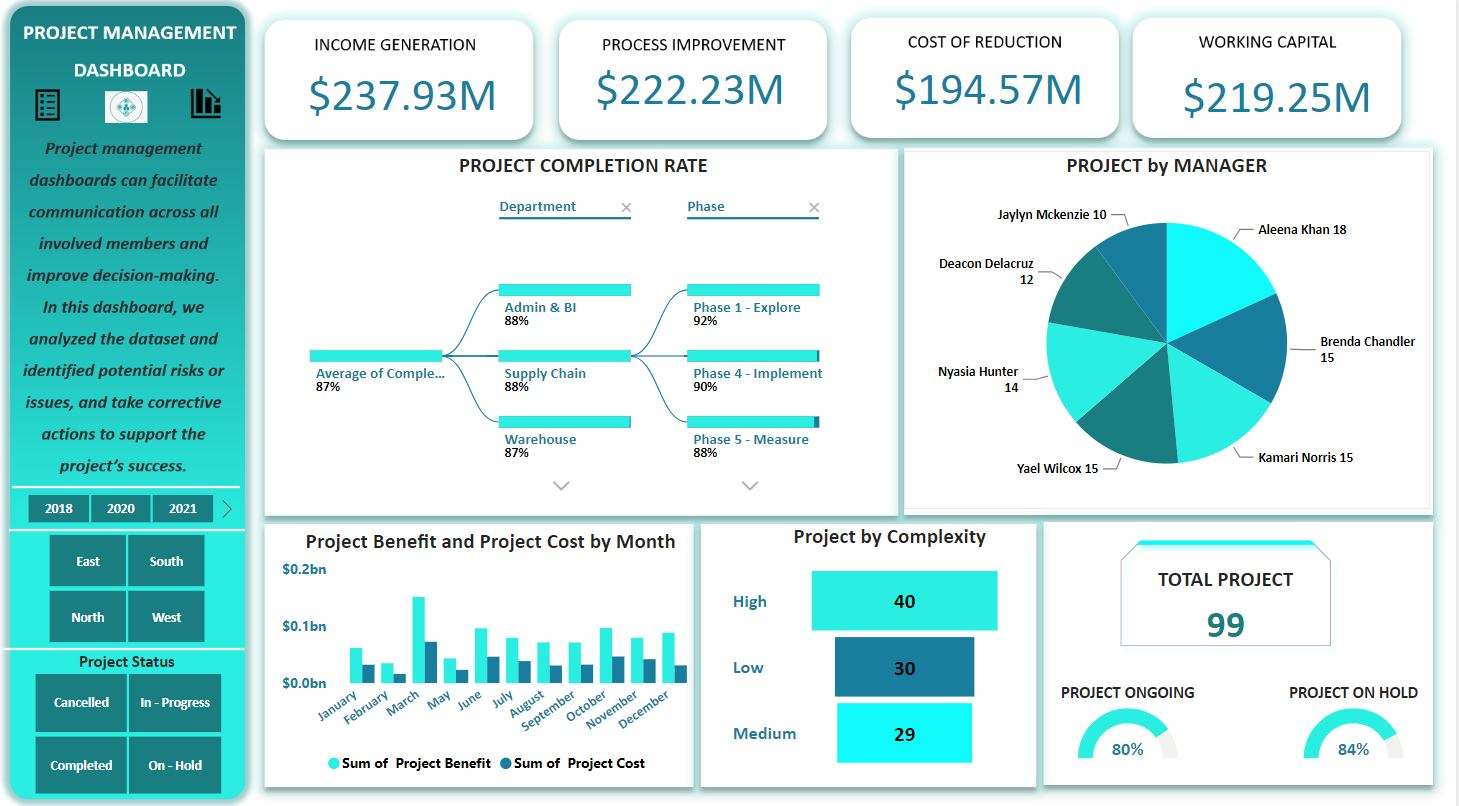

What the dashboard file says about the page in this screenshot:
{"tool":"powerbi","page":{"name":"Page 1","canvas":[1280,720],"ordinal":0},"visuals":[{"type":"card","title":"INCOME GENERATION","fields":{"Values":["Project Management Dataset. Project Benefit "]},"box":[261.7,52.7,187,66.7],"z":0},{"type":"card","title":"PROCESS IMPROVEMENT","fields":{"Values":["Project Management Dataset. Project Benefit "]},"box":[507.2,39,200.2,84.3],"z":1000},{"type":"cardVisual","fields":{"Data":["Project Management Dataset.Status"]},"box":[968.5,462.7,219.5,127.3],"z":2000},{"type":"card","title":"COST REDUCTION","fields":{"Values":["Project Management Dataset. Project Benefit "]},"box":[770.9,38.6,197.6,84.3],"z":3000},{"type":"card","title":"WORKING CAPITAL","fields":{"Values":["Project Management Dataset. Project Benefit "]},"box":[1030.8,52.7,184.4,70.2],"z":4000},{"type":"clusteredColumnChart","title":"Project Benefit  and Project Cost  by Month","fields":{"Y":["Project Management Dataset. Project Benefit ","Project Management Dataset. Project Cost "],"Category":["Project Management Dataset.End Date.Variation.Date Hierarchy.Month"]},"box":[243.8,467.7,377.1,226],"z":5000},{"type":"decompositionTreeVisual","title":"PROJECT COMPLETION RATE","fields":{"Analyze":["Project Management Dataset.Completion%"],"ExplainBy":["Project Management Dataset.Department","Project Management Dataset.Phase"]},"box":[243.8,137.5,539.6,314.6],"z":6000},{"type":"gauge","title":"PROJECT ONGOING","fields":{"Y":["Project Management Dataset.Completion%"]},"box":[926,604.2,131.2,71.9],"z":7000},{"type":"gauge","title":"PROJECT ON HOLD","fields":{"Y":["Project Management Dataset.Completion%"]},"box":[1122.9,604.2,134.4,71.9],"z":8000},{"type":"funnel","title":"Project by Complexity","fields":{"Category":["Project Management Dataset.Complexity"],"Y":["Project Management Dataset.Project Type"]},"box":[640.1,476.8,247.6,226.5],"z":9000},{"type":"textbox","box":[669.8,459.4,226,44.8],"z":10000},{"type":"pieChart","title":"PROJECT by MANAGER","fields":{"Category":["Project Management Dataset.Project Manager"],"Y":["Project Management Dataset.Completion%"]},"box":[795.8,137.5,461.5,314.6],"z":11000},{"type":"slicer","fields":{"Values":["Project Management Dataset.Year"]},"box":[0.9,432.9,211.6,37.8],"z":12000},{"type":"slicer","fields":{"Values":["Project Management Dataset.Status"]},"box":[7,590,212.5,119.4],"z":13000},{"type":"slicer","fields":{"Values":["Project Management Dataset.Region"]},"box":[19.3,468,186.1,108],"z":14000},{"type":"shape","box":[12.3,424,200.1,17.6],"z":15000},{"type":"shape","box":[9.7,464.6,207.2,12.3],"z":16000},{"type":"textbox","box":[32.6,571.2,161.3,36.1],"z":17000},{"type":"shape","box":[4.4,568.6,212.5,12.3],"z":18000}]}

Visuals, with their boxes in screenshot pixels (x1, y1, x2, y2), scaled from the page's 1280x720 canvas onto the 1459x806 screenshot:
"INCOME GENERATION" card: 298 59 511 134
"PROCESS IMPROVEMENT" card: 578 44 806 138
cardVisual - Project Management Dataset.Status: 1104 518 1354 660
"COST REDUCTION" card: 879 43 1104 138
"WORKING CAPITAL" card: 1175 59 1385 138
"Project Benefit  and Project Cost  by Month" clusteredColumnChart: 278 524 708 777
"PROJECT COMPLETION RATE" decompositionTreeVisual: 278 154 893 506
"PROJECT ONGOING" gauge: 1055 676 1205 757
"PROJECT ON HOLD" gauge: 1280 676 1433 757
"Project by Complexity" funnel: 730 534 1012 787
textbox: 763 514 1021 564
"PROJECT by MANAGER" pieChart: 907 154 1433 506
slicer - Project Management Dataset.Year: 1 485 242 527
slicer - Project Management Dataset.Status: 8 660 250 794
slicer - Project Management Dataset.Region: 22 524 234 645
shape: 14 475 242 494
shape: 11 520 247 534
textbox: 37 639 221 680
shape: 5 637 247 650
